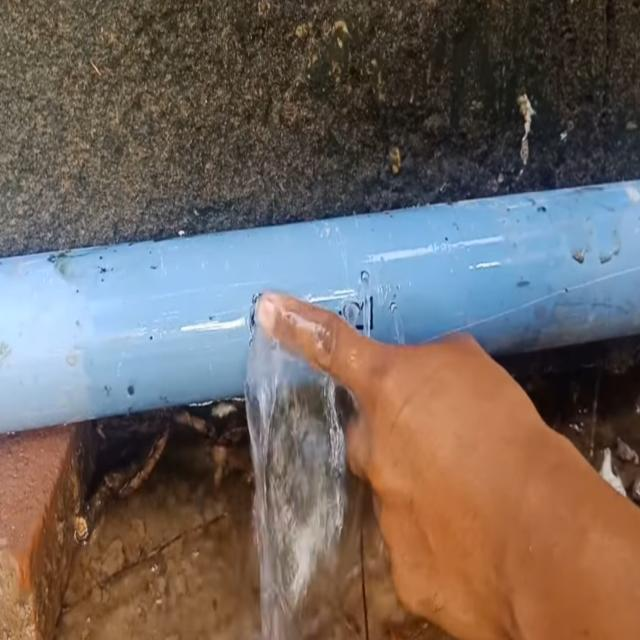leak: (245, 324, 364, 638)
